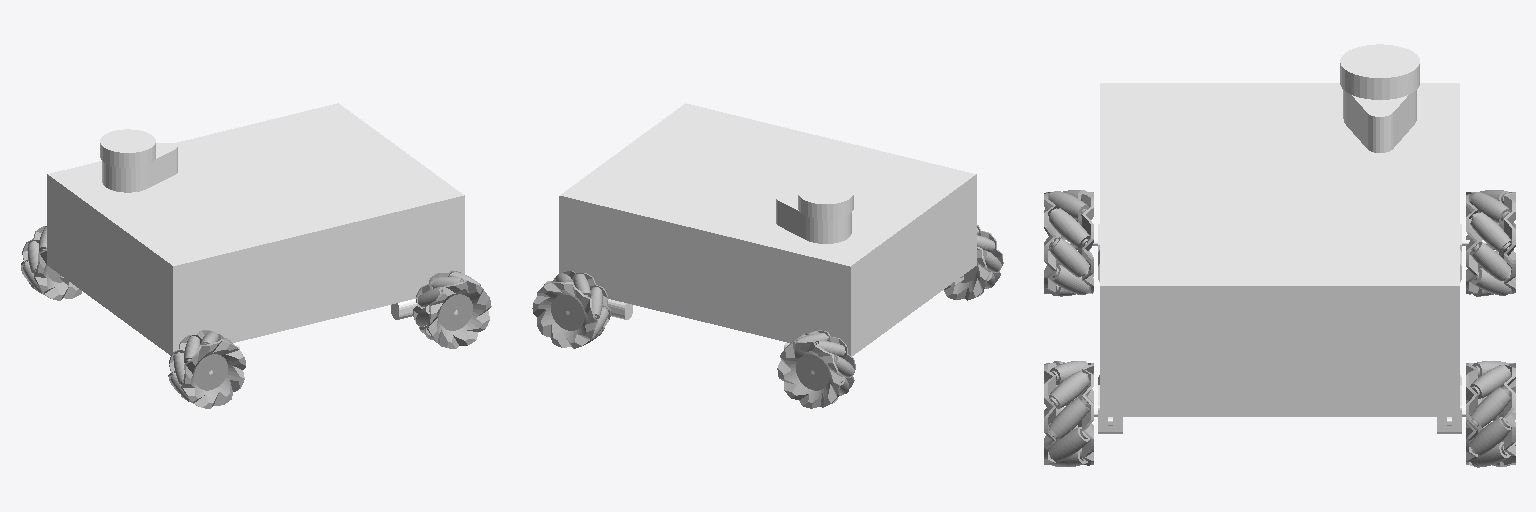
URDF robot description (cyrobot_description):
<?xml version="1.0" encoding="utf-8"?>
<!-- This URDF was automatically created by SolidWorks to URDF Exporter! Originally created by [author] ([email redacted]) 
     Commit Version: 1.5.0-0-g9aa0fdb  Build Version: 1.5.7004.21443
     For more information, please see http://wiki.ros.org/sw_urdf_exporter -->
<robot
  name="cyrobot_description">
  <link
    name="base_link">
    <inertial>
      <origin
        xyz="-1.7881256192398E-07 1.16616888257148E-07 0.0533405251582288"
        rpy="0 0 0" />
      <mass
        value="10.6032389999435" />
      <inertia
        ixx="0.0761698567102905"
        ixy="-1.31706672436547E-05"
        ixz="-1.15792975668332E-07"
        iyy="0.125933342671775"
        iyz="7.55171580434013E-08"
        izz="0.180787275044754" />
    </inertial>
    <visual>
      <origin
        xyz="0 0 0"
        rpy="0 0 0" />
      <geometry>
        <mesh
          filename="package://cyrobot_description/meshes/base_link.STL" />
      </geometry>
      <material
        name="">
        <color
          rgba="1 1 1 1" />
      </material>
    </visual>
    <collision>
      <origin
        xyz="0 0 0"
        rpy="0 0 0" />
      <geometry>
        <mesh
          filename="package://cyrobot_description/meshes/base_link.STL" />
      </geometry>
    </collision>
  </link>
  <link
    name="left_head_Link">
    <inertial>
      <origin
        xyz="4.3176E-06 -0.0085235 3.9638E-05"
        rpy="0 0 0" />
      <mass
        value="0.073422" />
      <inertia
        ixx="4.1977E-05"
        ixy="-9.2858E-08"
        ixz="-4.8557E-08"
        iyy="7.2258E-05"
        iyz="9.9816E-09"
        izz="4.1998E-05" />
    </inertial>
    <visual>
      <origin
        xyz="0 0 0"
        rpy="0 0 0" />
      <geometry>
        <mesh
          filename="package://cyrobot_description/meshes/left_head_Link.STL" />
      </geometry>
      <material
        name="">
        <color
          rgba="0.75294 0.75294 0.75294 1" />
      </material>
    </visual>
    <collision>
      <origin
        xyz="0 0 0"
        rpy="0 0 0" />
      <geometry>
        <mesh
          filename="package://cyrobot_description/meshes/left_head_Link.STL" />
      </geometry>
    </collision>
  </link>
  <joint
    name="left_head_joint"
    type="continuous">
    <origin
      xyz="0.15151 0.16641 -0.01125"
      rpy="0 0 0" />
    <parent
      link="base_link" />
    <child
      link="left_head_Link" />
    <axis
      xyz="0 1 0" />
    <safety_controller
      k_velocity="0" />
  </joint>
  <link
    name="right_head_Link">
    <inertial>
      <origin
        xyz="3.4385E-05 0.0085235 -2.0189E-05"
        rpy="0 0 0" />
      <mass
        value="0.073422" />
      <inertia
        ixx="4.1944E-05"
        ixy="4.7401E-08"
        ixz="-2.4255E-08"
        iyy="7.2258E-05"
        iyz="8.0471E-08"
        izz="4.2031E-05" />
    </inertial>
    <visual>
      <origin
        xyz="0 0 0"
        rpy="0 0 0" />
      <geometry>
        <mesh
          filename="package://cyrobot_description/meshes/right_head_Link.STL" />
      </geometry>
      <material
        name="">
        <color
          rgba="0.75294 0.75294 0.75294 1" />
      </material>
    </visual>
    <collision>
      <origin
        xyz="0 0 0"
        rpy="0 0 0" />
      <geometry>
        <mesh
          filename="package://cyrobot_description/meshes/right_head_Link.STL" />
      </geometry>
    </collision>
  </link>
  <joint
    name="right_head_joint"
    type="continuous">
    <origin
      xyz="0.15151 -0.16639 -0.01125"
      rpy="0 0 0" />
    <parent
      link="base_link" />
    <child
      link="right_head_Link" />
    <axis
      xyz="0 1 0" />
    <safety_controller
      k_velocity="0" />
  </joint>
  <link
    name="left_back_Link">
    <inertial>
      <origin
        xyz="2.1799E-09 -0.0084295 -7.8207E-10"
        rpy="0 0 0" />
      <mass
        value="0.073422" />
      <inertia
        ixx="4.1987E-05"
        ixy="6.5123E-12"
        ixz="7.2057E-12"
        iyy="7.2258E-05"
        iyz="-4.9559E-12"
        izz="4.1987E-05" />
    </inertial>
    <visual>
      <origin
        xyz="0 0 0"
        rpy="0 0 0" />
      <geometry>
        <mesh
          filename="package://cyrobot_description/meshes/left_back_Link.STL" />
      </geometry>
      <material
        name="">
        <color
          rgba="0.75294 0.75294 0.75294 1" />
      </material>
    </visual>
    <collision>
      <origin
        xyz="0 0 0"
        rpy="0 0 0" />
      <geometry>
        <mesh
          filename="package://cyrobot_description/meshes/left_back_Link.STL" />
      </geometry>
    </collision>
  </link>
  <joint
    name="left_back_joint"
    type="continuous">
    <origin
      xyz="-0.15154 0.16641 -0.01125"
      rpy="0 0 0" />
    <parent
      link="base_link" />
    <child
      link="left_back_Link" />
    <axis
      xyz="0 -1 0" />
    <safety_controller
      k_velocity="0" />
  </joint>
  <link
    name="right_back_Link">
    <inertial>
      <origin
        xyz="1.1604E-09 0.0084295 1.6848E-09"
        rpy="0 0 0" />
      <mass
        value="0.073422" />
      <inertia
        ixx="4.1987E-05"
        ixy="-6.2371E-12"
        ixz="-7.7808E-12"
        iyy="7.2258E-05"
        iyz="-5.4381E-12"
        izz="4.1987E-05" />
    </inertial>
    <visual>
      <origin
        xyz="0 0 0"
        rpy="0 0 0" />
      <geometry>
        <mesh
          filename="package://cyrobot_description/meshes/right_back_Link.STL" />
      </geometry>
      <material
        name="">
        <color
          rgba="0.75294 0.75294 0.75294 1" />
      </material>
    </visual>
    <collision>
      <origin
        xyz="0 0 0"
        rpy="0 0 0" />
      <geometry>
        <mesh
          filename="package://cyrobot_description/meshes/right_back_Link.STL" />
      </geometry>
    </collision>
  </link>
  <joint
    name="right_back_joint"
    type="continuous">
    <origin
      xyz="-0.15154 -0.16639 -0.01125"
      rpy="0 0 0" />
    <parent
      link="base_link" />
    <child
      link="right_back_Link" />
    <axis
      xyz="0 -1 0" />
    <safety_controller
      k_velocity="0" />
  </joint>
  <link
    name="laser_Link">
    <inertial>
      <origin
        xyz="0.0073485 -2.7756E-17 -0.0159"
        rpy="0 0 0" />
      <mass
        value="0.1509" />
      <inertia
        ixx="5.6077E-05"
        ixy="-1.8375E-20"
        ixz="8.9824E-06"
        iyy="9.0691E-05"
        iyz="3.9186E-21"
        izz="9.0202E-05" />
    </inertial>
    <visual>
      <origin
        xyz="0 0 0"
        rpy="0 0 0" />
      <geometry>
        <mesh
          filename="package://cyrobot_description/meshes/laser_Link.STL" />
      </geometry>
      <material
        name="">
        <color
          rgba="1 1 1 1" />
      </material>
    </visual>
    <collision>
      <origin
        xyz="0 0 0"
        rpy="0 0 0" />
      <geometry>
        <mesh
          filename="package://cyrobot_description/meshes/laser_Link.STL" />
      </geometry>
    </collision>
  </link>
  <joint
    name="laser_joint"
    type="fixed">
    <origin
      xyz="-0.11502 0.075011 0.147"
      rpy="0 0 0" />
    <parent
      link="base_link" />
    <child
      link="laser_Link" />
    <axis
      xyz="0 0 0" />
    <safety_controller
      k_velocity="0" />
  </joint>
</robot>

--- Facts derived from the render (not from the file) ---
The picture shows the robot from 3 angles, left to right: view 1: azimuth 30°, elevation 25°; view 2: azimuth 150°, elevation 25°; view 3: azimuth 270°, elevation 25°; orthographic projection.
Model cyrobot_description with 6 links and 5 joints (4 continuous, 1 fixed), rooted at base_link, posed all joints at 0.
Visible links, largest first — view 1: base_link, right_head_Link, right_back_Link, laser_Link, left_back_Link; view 2: base_link, left_back_Link, left_head_Link, laser_Link, right_back_Link; view 3: base_link, laser_Link, left_head_Link, right_head_Link, left_back_Link, right_back_Link.
Boxes of the visible links, x1,y1,x2,y2 form: base_link: [47, 103, 464, 374]; right_head_Link: [413, 270, 491, 348]; right_back_Link: [168, 330, 245, 408]; laser_Link: [100, 129, 177, 192]; left_back_Link: [21, 226, 81, 300]; base_link: [559, 103, 976, 374]; left_back_Link: [777, 330, 855, 408]; left_head_Link: [532, 271, 610, 348]; laser_Link: [776, 181, 853, 243]; right_back_Link: [944, 225, 1003, 300]; base_link: [1065, 83, 1498, 433]; laser_Link: [1340, 44, 1419, 152]; left_head_Link: [1466, 361, 1515, 467]; right_head_Link: [1044, 361, 1093, 466]; left_back_Link: [1466, 190, 1515, 296]; right_back_Link: [1044, 190, 1093, 296].
Size in the robot's own frame: 0.3832 by 0.3528 by 0.2074 metres.
6 mesh visuals loaded from 6 distinct referenced files (6 binary STL).